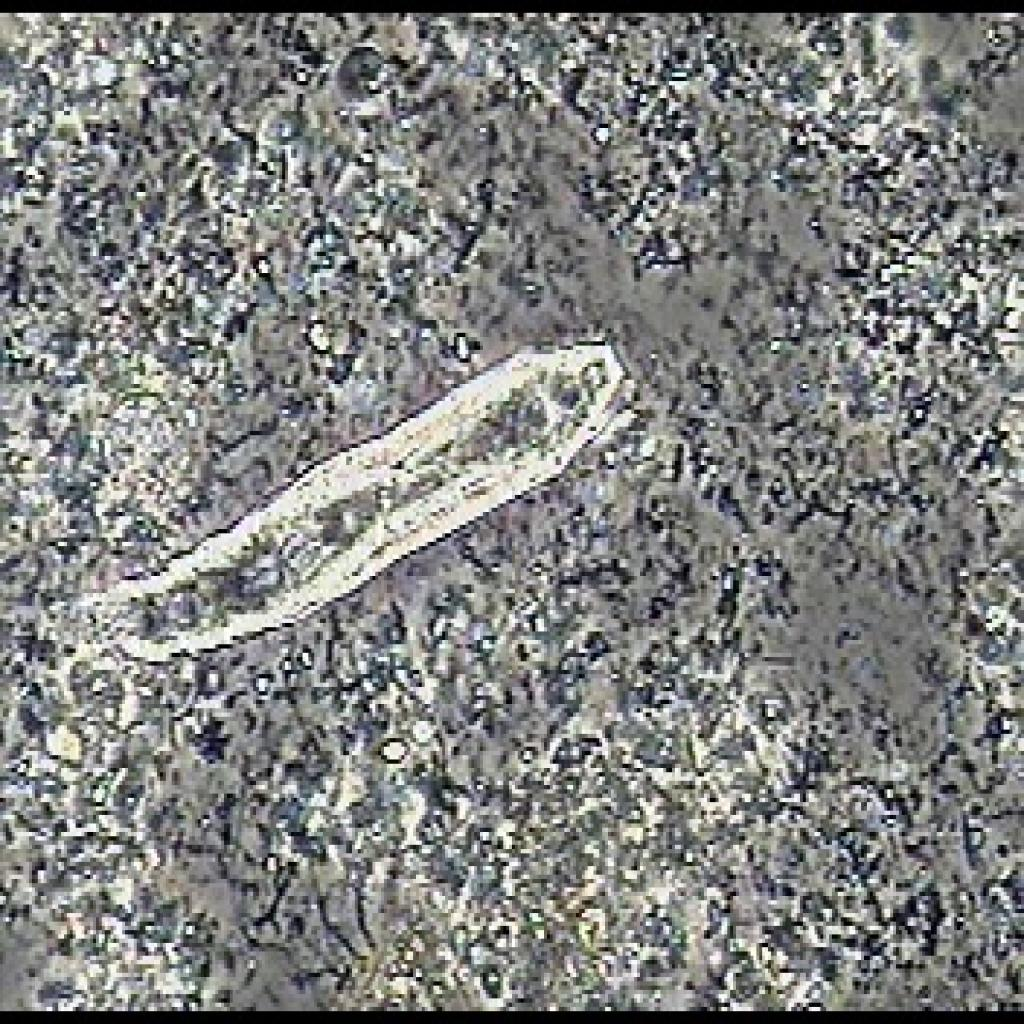Rotatoria: (55, 307, 634, 687)
